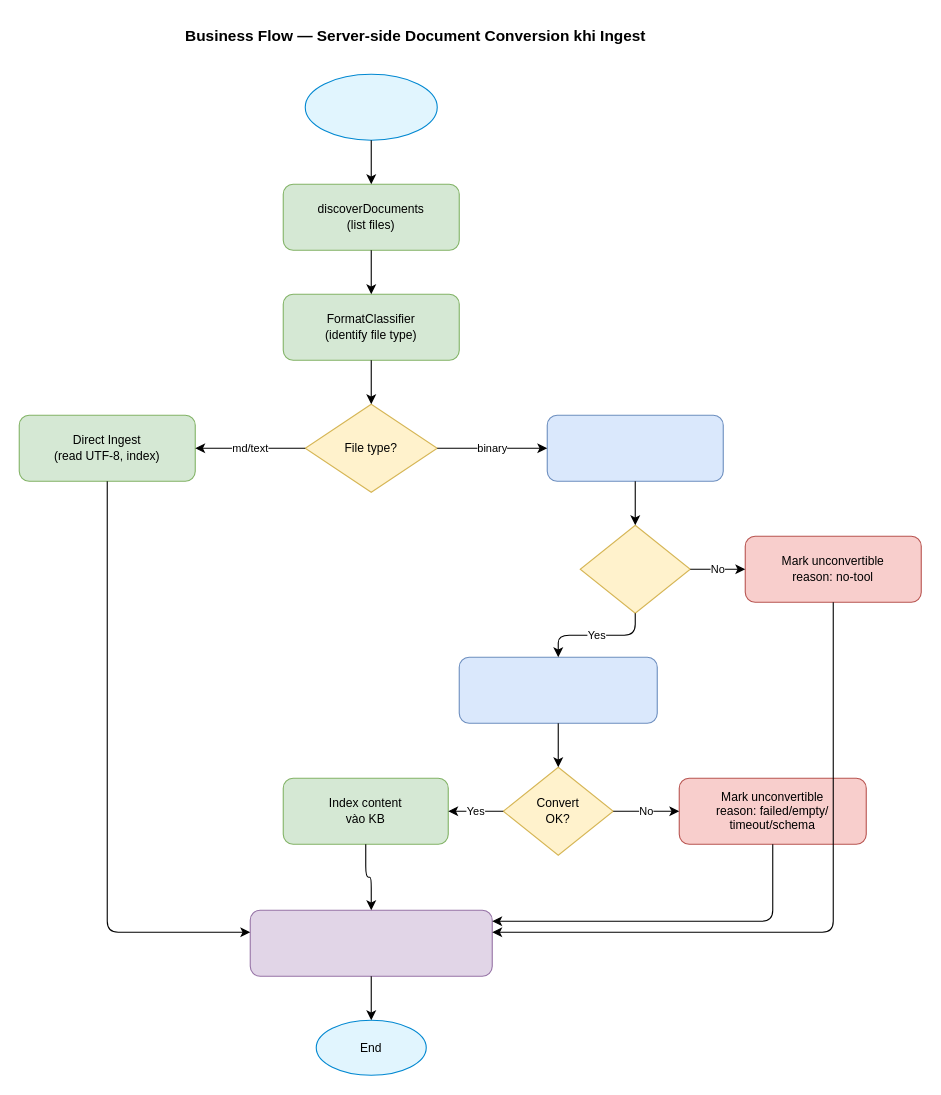
This 941x1095 diagram has some shape labels left out. Each missing label, with the centre of its shape:
"AI Agent triggers Ingest" goes at (370,106).
"execute_dynamic_tool (convert → markdown)" goes at (557,689).
"find_tools (search convert tool)" goes at (634,447).
"Log observability + Return response (ingested / unconvertible / summary)" goes at (370,942).
"Tool found?" goes at (634,568).
